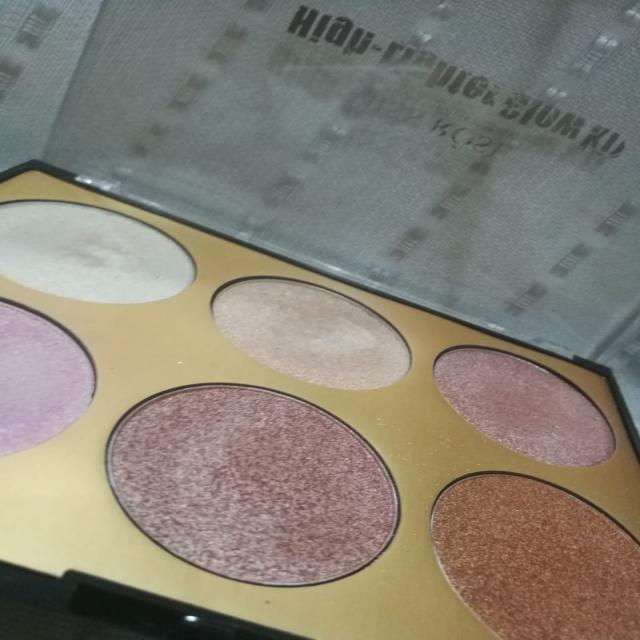highlighter: (92, 349, 418, 597), (418, 444, 640, 640), (416, 329, 636, 476), (196, 271, 425, 387), (0, 192, 210, 306), (0, 292, 112, 487)
